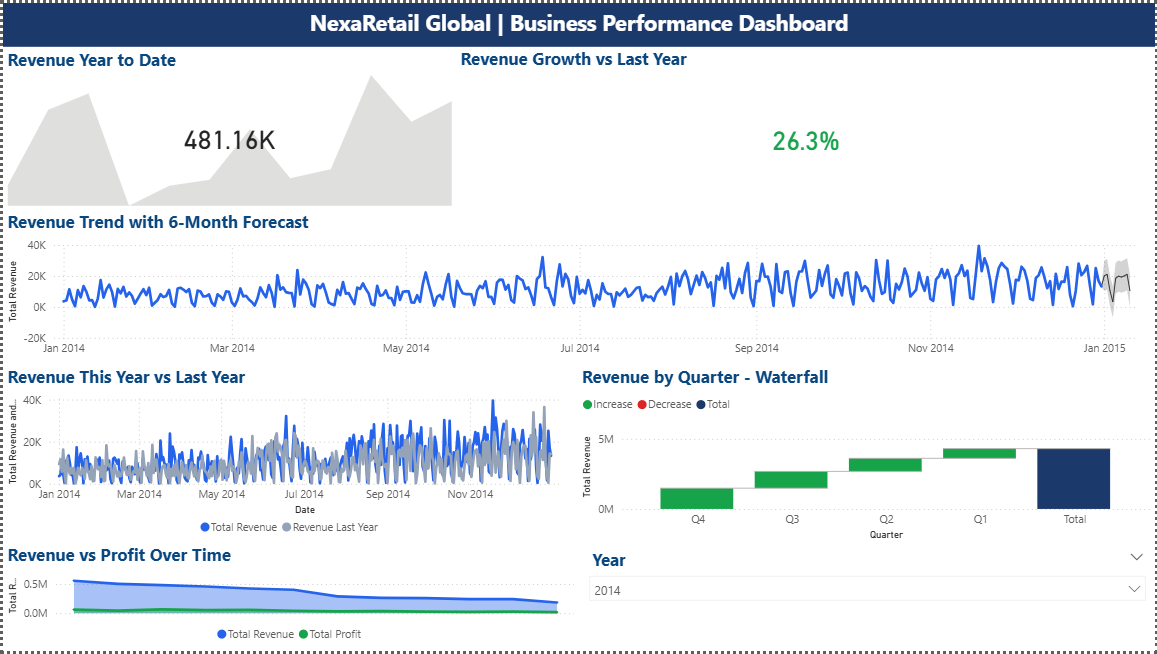

The page's visual inventory and layout, read from the dashboard file:
{"tool":"powerbi","page":{"name":"Trend & Forecast","canvas":[1280,720],"ordinal":5},"visuals":[{"type":"waterfallChart","title":"Revenue by Quarter - Waterfall","fields":{"Category":["DateTable.Quarter"],"Y":["_Measures.Total Revenue"]},"box":[638,401.6,641.2,199.2],"z":0},{"type":"areaChart","title":"Revenue vs Profit Over Time","fields":{"Y":["_Measures.Total Revenue","_Measures.Total Profit"],"Category":["DateTable.Month Name"]},"box":[0,600.7,639.6,119.8],"z":1000},{"type":"lineChart","title":"Revenue Trend with 6-Month Forecast","fields":{"Y":["_Measures.Total Revenue"],"Category":["DateTable.Date"]},"box":[0,229.9,1280.8,171.6],"z":2000},{"type":"lineChart","title":"Revenue This Year vs Last Year","fields":{"Y":["_Measures.Total Revenue","_Measures.Revenue Last Year"],"Category":["DateTable.Date"]},"box":[0,401.6,639.6,199.2],"z":3000},{"type":"kpi","title":"Revenue Year to Date","fields":{"TrendLine":["DateTable.Month Name"],"Indicator":["DateTable.Revenue YTD v2"]},"box":[0,50,503.3,180],"z":4000},{"type":"card","title":"Revenue Growth vs Last Year","fields":{"Values":["_Measures.Revenue YoY %"]},"box":[503.3,48.3,776.7,181.7],"z":5000},{"type":"textbox","box":[0,0,1280,48.3],"z":6000},{"type":"slicer","fields":{"Values":["DateTable.Year"]},"box":[641.2,600.7,638,119.8],"z":7000}]}

Visuals, with their boxes in screenshot pixels (x1, y1, x2, y2), scaled from the page's 1280x720 canvas onto the 1157x654 screenshot:
"Revenue by Quarter - Waterfall" waterfallChart: pyautogui.locateOnScreen(577, 365, 1156, 546)
"Revenue vs Profit Over Time" areaChart: pyautogui.locateOnScreen(0, 546, 578, 653)
"Revenue Trend with 6-Month Forecast" lineChart: pyautogui.locateOnScreen(0, 209, 1156, 365)
"Revenue This Year vs Last Year" lineChart: pyautogui.locateOnScreen(0, 365, 578, 546)
"Revenue Year to Date" kpi: pyautogui.locateOnScreen(0, 45, 455, 209)
"Revenue Growth vs Last Year" card: pyautogui.locateOnScreen(455, 44, 1156, 209)
textbox: pyautogui.locateOnScreen(0, 0, 1156, 44)
slicer - DateTable.Year: pyautogui.locateOnScreen(580, 546, 1156, 653)
